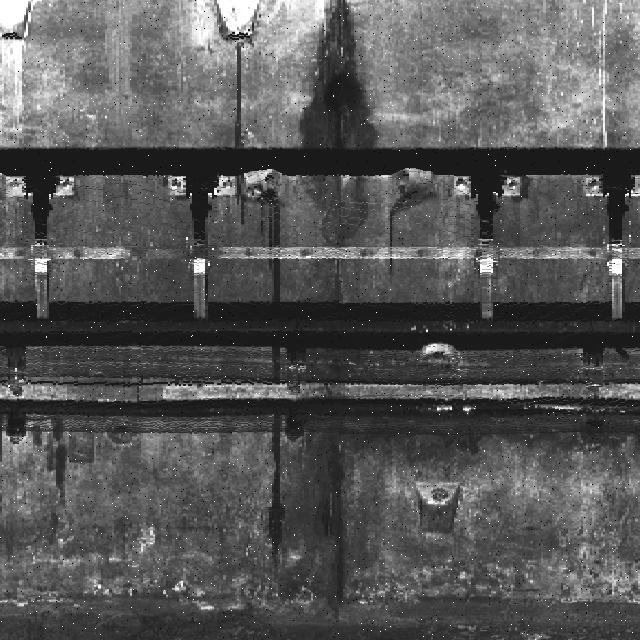leakage: (290, 4, 391, 245), (264, 410, 377, 624), (32, 419, 77, 518)
